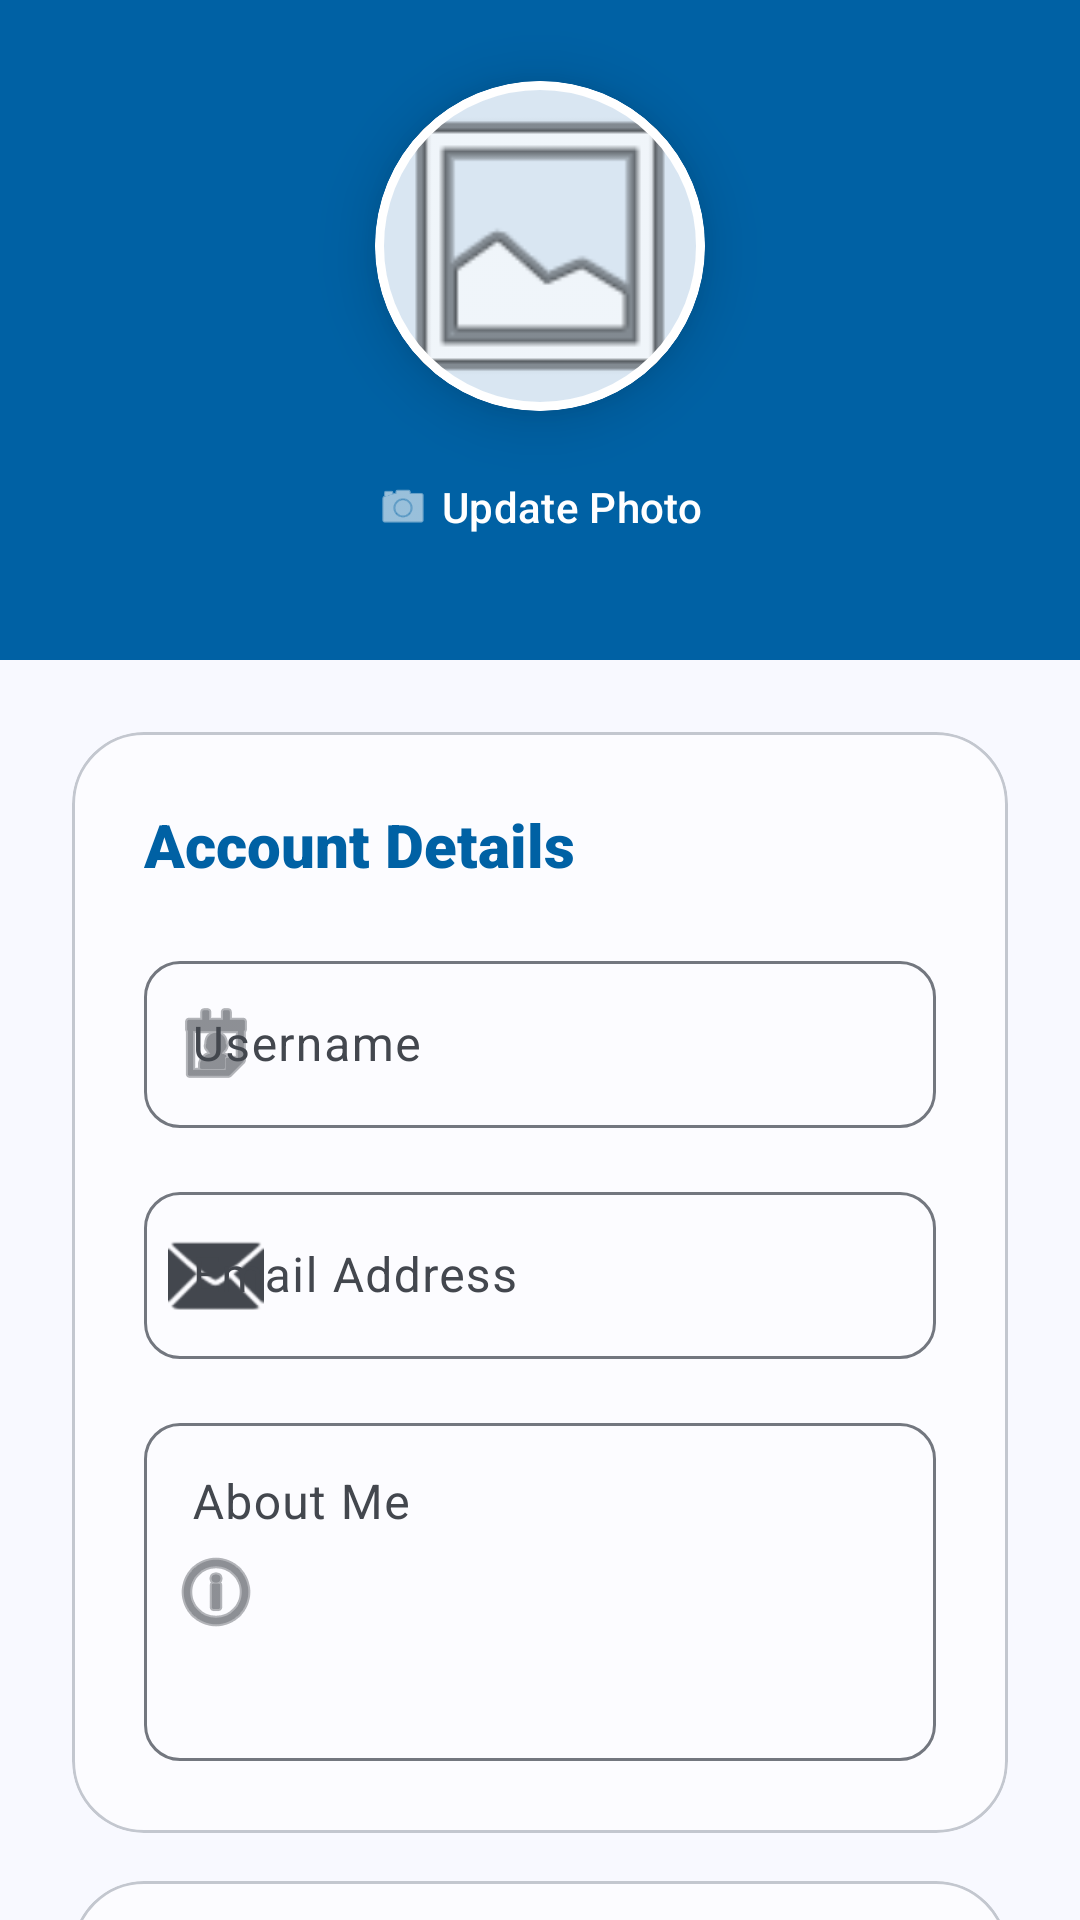

Where icons sit on this 1080w x 1920h app screen, as (x1, y1, x2, y2):
gallery: (375, 81, 705, 411)
